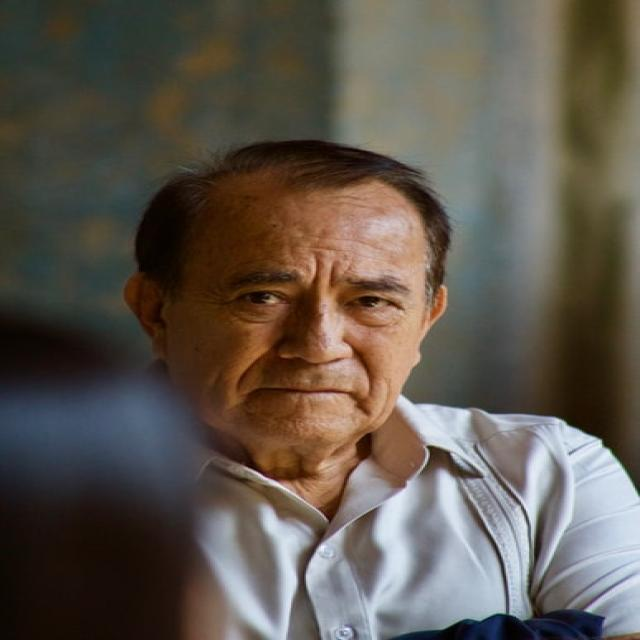Wrinkles: (350, 239, 386, 249), (344, 250, 377, 258), (296, 245, 344, 250), (243, 257, 270, 262), (230, 262, 243, 268), (310, 236, 338, 238)
